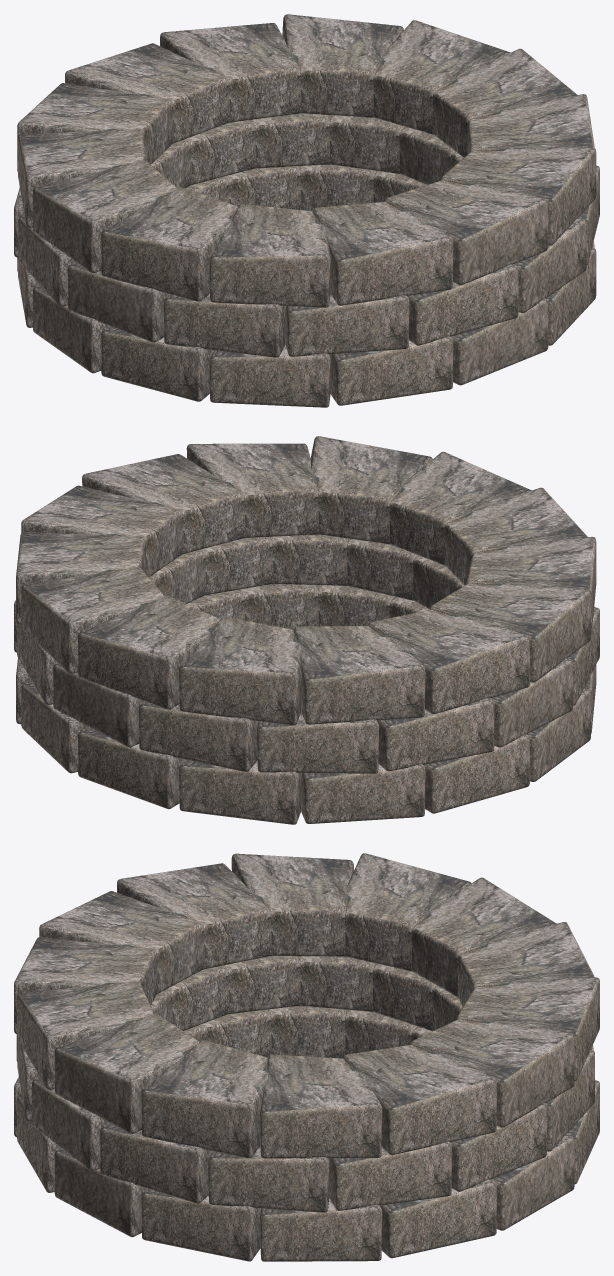
Rendered from B_Fountain_Low.fbx.
3 views of the same model, one above another, from view 1: azimuth 30°, elevation 25°; view 2: azimuth 150°, elevation 25°; view 3: azimuth 270°, elevation 25° (orthographic). The views are drawn at different scales.
Visible parts, largest first — view 1: Box076, Box075, Box074; view 2: Box076, Box075, Box074; view 3: Box076, Box075, Box074.
Part boxes in pixels (x1,y1,x2,y2): Box076: [17, 14, 596, 307]; Box075: [14, 113, 599, 357]; Box074: [17, 164, 596, 407]; Box076: [16, 436, 596, 725]; Box075: [14, 534, 599, 773]; Box074: [16, 584, 596, 824]; Box076: [14, 853, 599, 1158]; Box075: [16, 956, 594, 1212]; Box074: [14, 1005, 599, 1261].
Size of the model in its own units: 72.02 by 20.36 by 68.75.
Materials: 3 (3 with a texture image).
